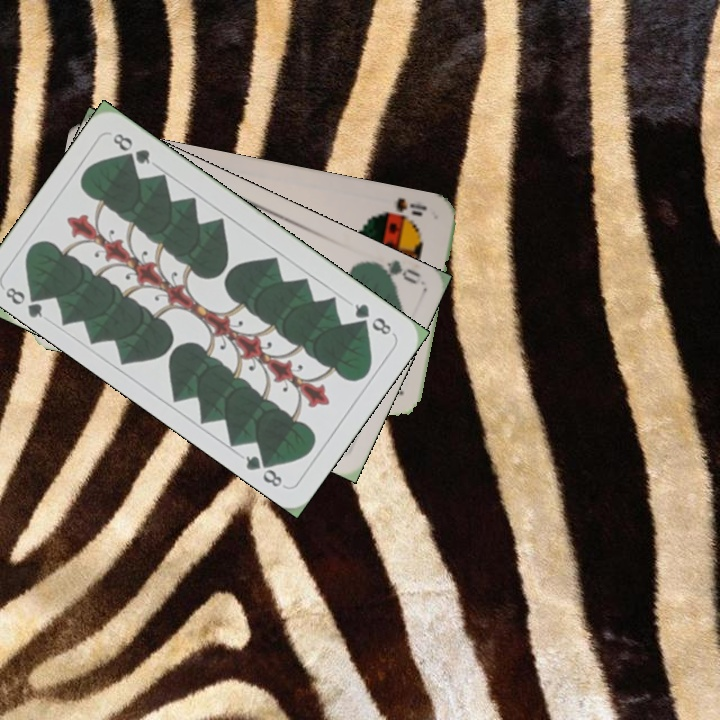G8: (1, 283, 48, 321), (350, 299, 394, 338)
GO: (364, 257, 423, 287)
SO: (392, 194, 430, 219)
